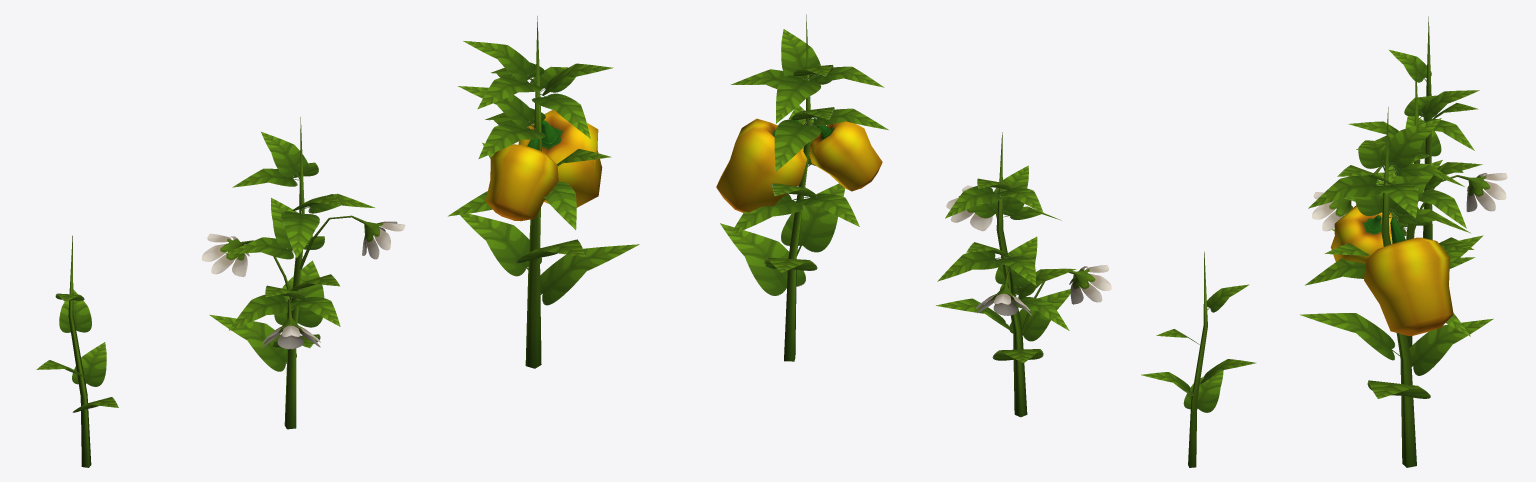
Rendered from BellPepper_Yellow_Lv.FBX.
The picture shows the model from 3 angles, left to right: view 1: azimuth 30°, elevation 25°; view 2: azimuth 150°, elevation 25°; view 3: azimuth 270°, elevation 25°; orthographic projection. The views are drawn at different scales.
Parts seen in each view (by area): view 1: BellPepper_Yellow_Lv3, BellPepper_Yellow_Lv2, BellPepper_Yellow_Lv1; view 2: BellPepper_Yellow_Lv3, BellPepper_Yellow_Lv2, BellPepper_Yellow_Lv1; view 3: BellPepper_Yellow_Lv3, BellPepper_Yellow_Lv2, BellPepper_Yellow_Lv1.
Part boxes in pixels (left/top/right/bottom): BellPepper_Yellow_Lv3: left=448, top=16, right=639, bottom=368; BellPepper_Yellow_Lv2: left=201, top=117, right=405, bottom=429; BellPepper_Yellow_Lv1: left=36, top=235, right=118, bottom=467; BellPepper_Yellow_Lv3: left=716, top=14, right=888, bottom=361; BellPepper_Yellow_Lv2: left=936, top=132, right=1111, bottom=417; BellPepper_Yellow_Lv1: left=1141, top=251, right=1255, bottom=467; BellPepper_Yellow_Lv3: left=1300, top=107, right=1493, bottom=467; BellPepper_Yellow_Lv2: left=1312, top=58, right=1507, bottom=347; BellPepper_Yellow_Lv1: left=1377, top=16, right=1478, bottom=239.
Size of the model in its own units: 231 by 131 by 75.9.
